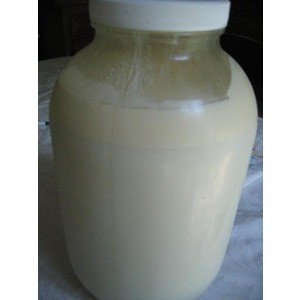milk_brain food: (99, 111, 236, 247)
